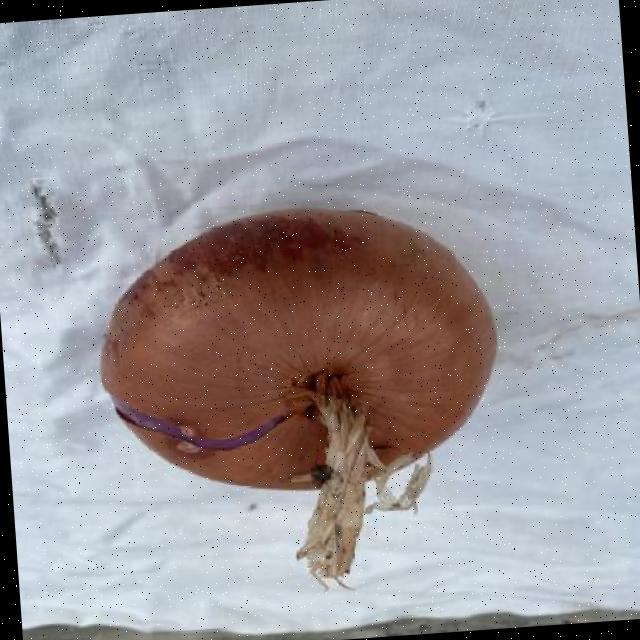Onion: (99, 209, 495, 585)
